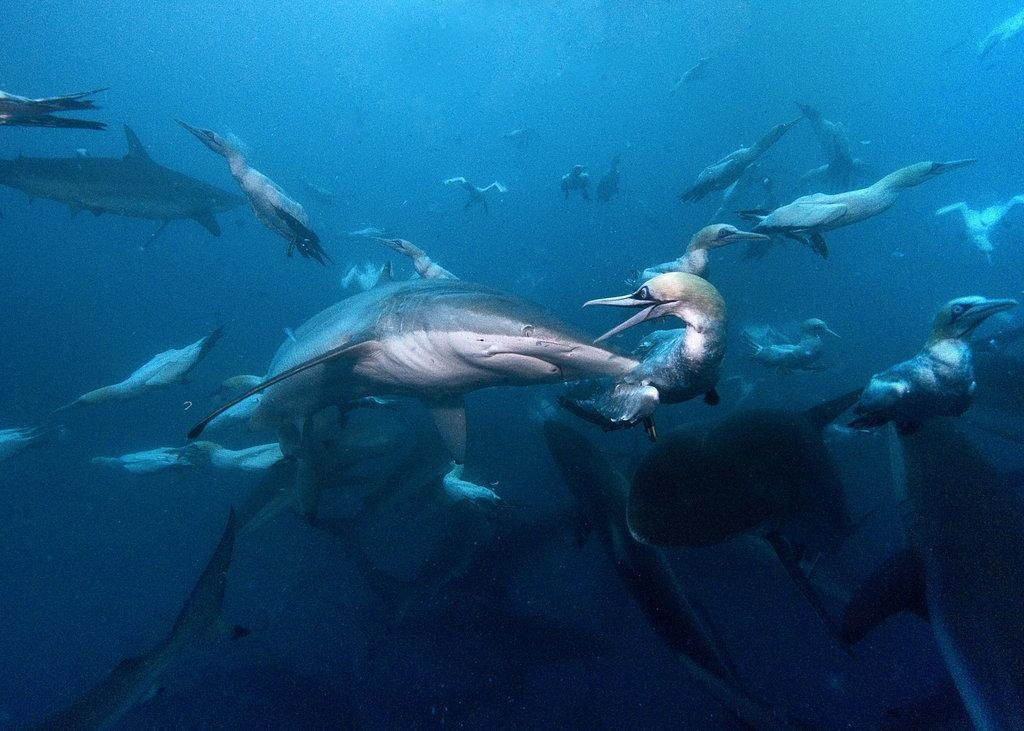fish: (176, 262, 645, 455)
